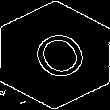O_SE: (19, 22, 91, 88)
